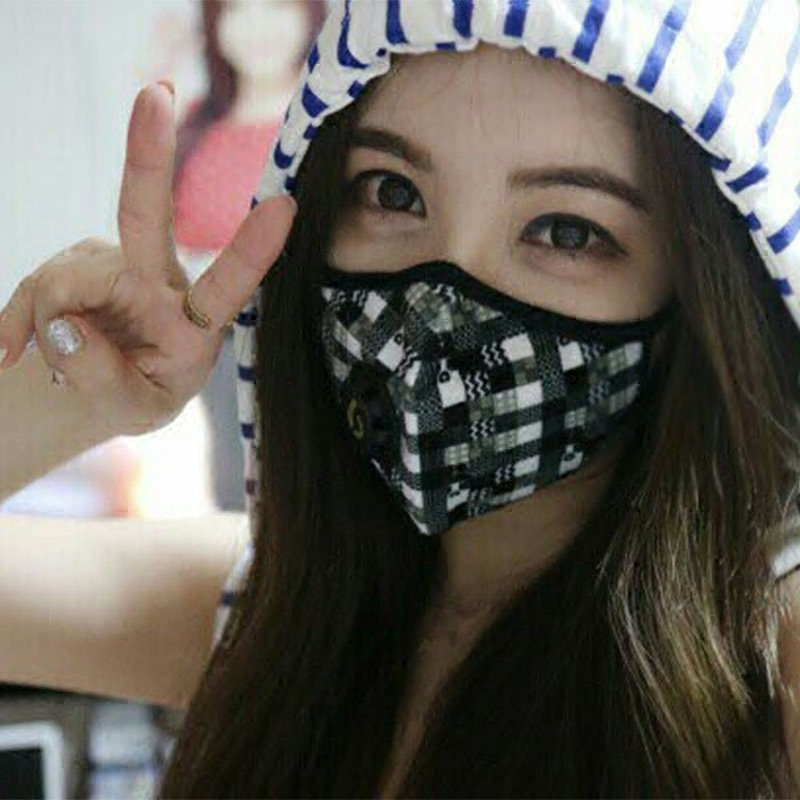face_mask: (306, 43, 662, 507)
